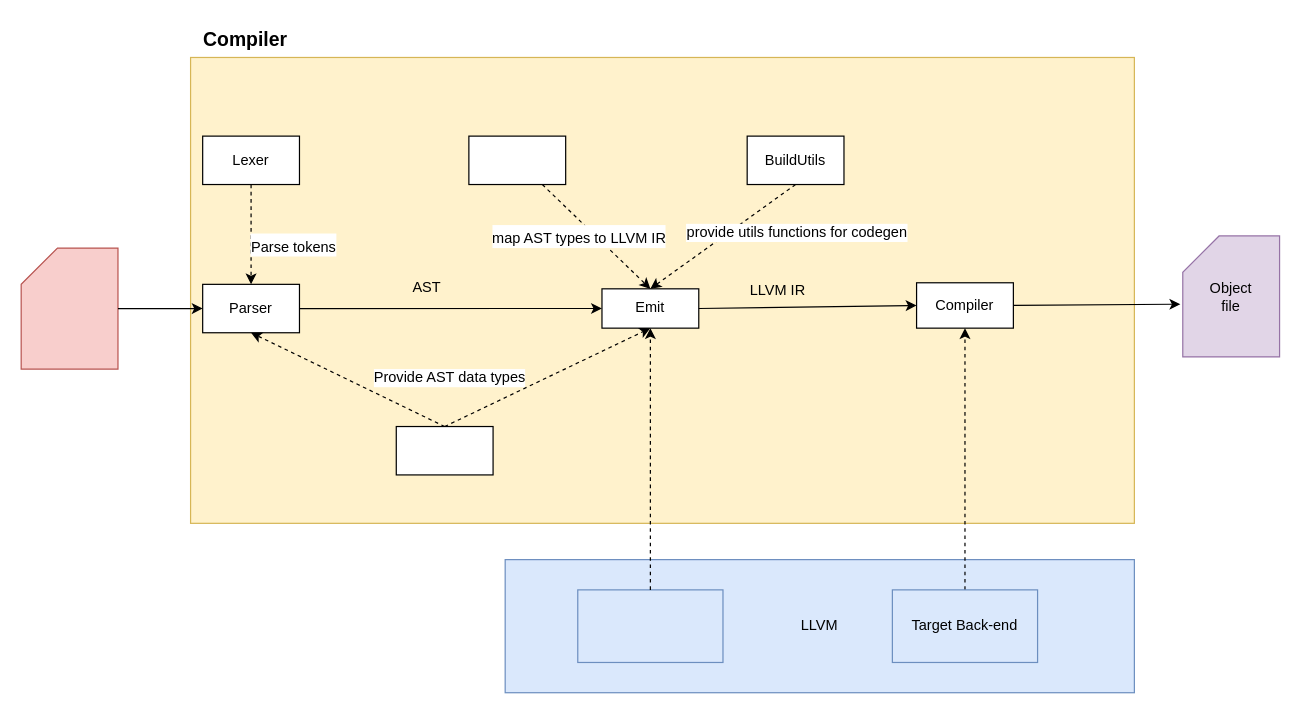
Image size: 1301x714. Some labels were removed from this diagram. The shapes that lost their labels are listed below. From the top down, each one's centre as x and y in pixels, then its label:
the point at 517,160: ASTBridge
the point at 69,308: Input file
the point at 444,450: Syntax
the point at 650,625: IR Builder
